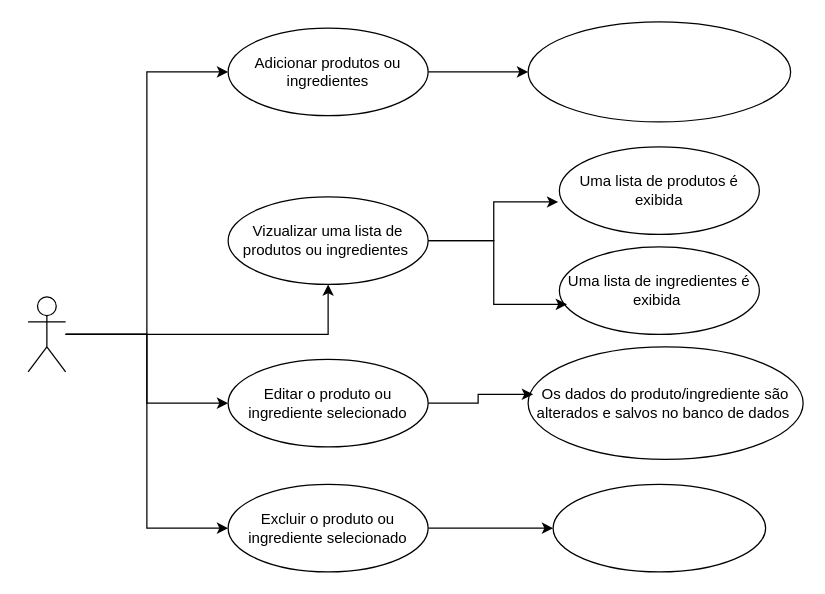
Some shapes in this 825 by 594 pixel diagram are drawn without their labels. Each missing label, with the centre of its shape:
O produto/ingrediente é excluido do banco de dados: pixel 659 527
Os produtos/ingredientes são salvos no banco de dados: pixel 659 71
Usuário: pixel 46 334
